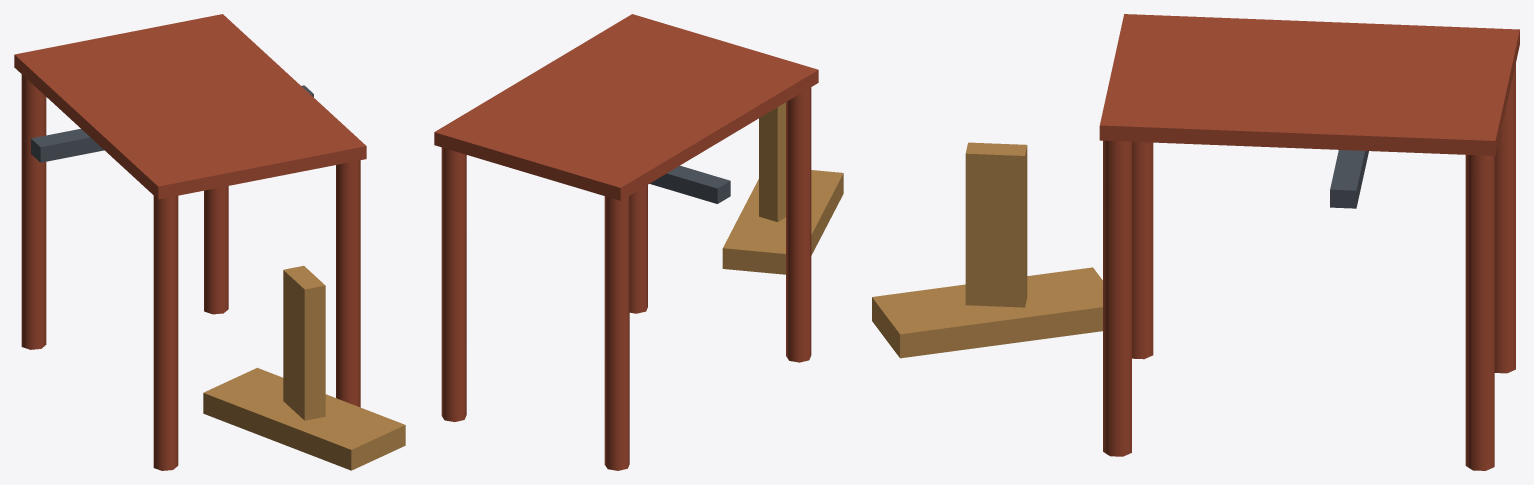
File: cell-180_-630.glb
The picture shows the model from 3 angles, left to right: view 1: azimuth 30°, elevation 25°; view 2: azimuth 150°, elevation 25°; view 3: azimuth 270°, elevation 25°; orthographic projection. The views are drawn at different scales.
Visible parts, largest first — view 1: cell-180_-630; view 2: cell-180_-630; view 3: cell-180_-630.
Boxes of the visible parts, x1=… form: cell-180_-630: x1=14, y1=14, x2=405, y2=470; cell-180_-630: x1=434, y1=14, x2=843, y2=470; cell-180_-630: x1=872, y1=14, x2=1519, y2=470.
Size of the model in its own units: 1.05 by 1.11 by 1.96.
